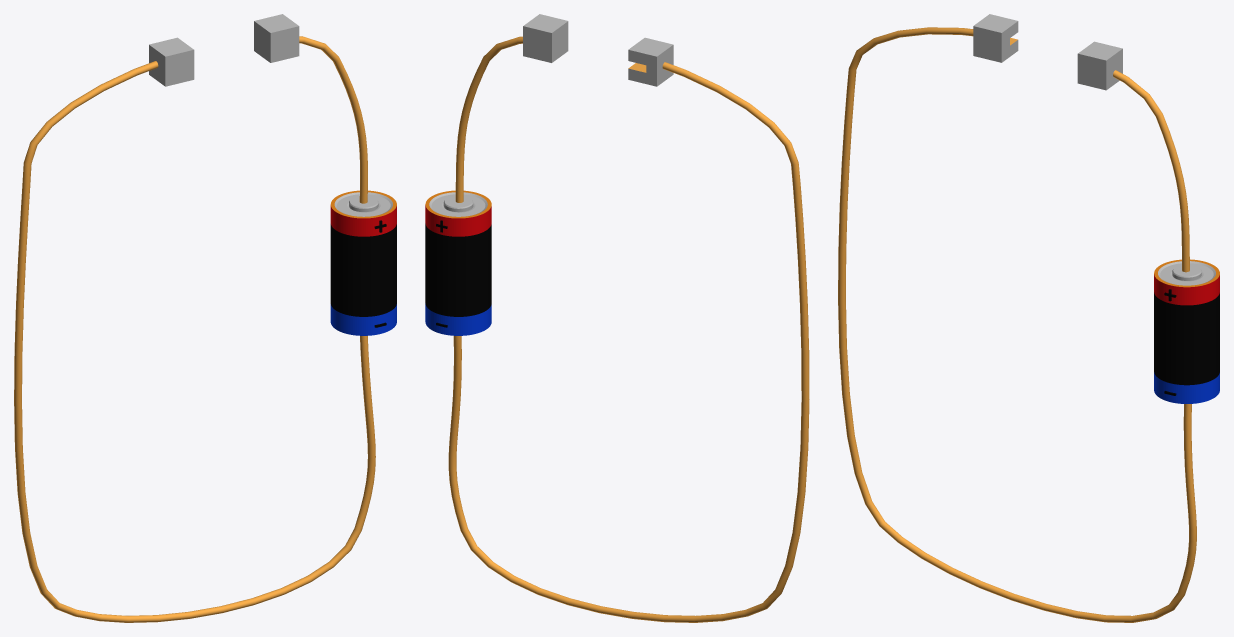
The model's file is Bateria2.dae.
3 views of the same model, side by side, from view 1: azimuth 30°, elevation 25°; view 2: azimuth 150°, elevation 25°; view 3: azimuth 330°, elevation 25° (orthographic).
Parts seen in each view (by area): view 1: BezierCurve, Cylinder.001, Cylinder, Cube.001, Cube; view 2: BezierCurve, Cylinder.001, Cylinder, Cube.001, Cube; view 3: BezierCurve, Cylinder.001, Cylinder, Cube, Cube.001.
Part boxes in pixels (box(x1,y1,x2,y2)): BezierCurve: box(14, 36, 375, 622); Cylinder.001: box(330, 190, 396, 277); Cylinder: box(330, 264, 396, 335); Cube.001: box(254, 14, 299, 62); Cube: box(149, 37, 194, 86); BezierCurve: box(448, 36, 809, 622); Cylinder.001: box(425, 190, 491, 277); Cylinder: box(425, 264, 491, 335); Cube.001: box(523, 14, 568, 62); Cube: box(628, 37, 673, 86); BezierCurve: box(838, 27, 1196, 622); Cylinder.001: box(1154, 259, 1219, 345); Cylinder: box(1154, 333, 1219, 403); Cube: box(973, 14, 1018, 62); Cube.001: box(1077, 41, 1122, 90).
Size of the model in its own units: 3.3 by 0.5221 by 4.81.
